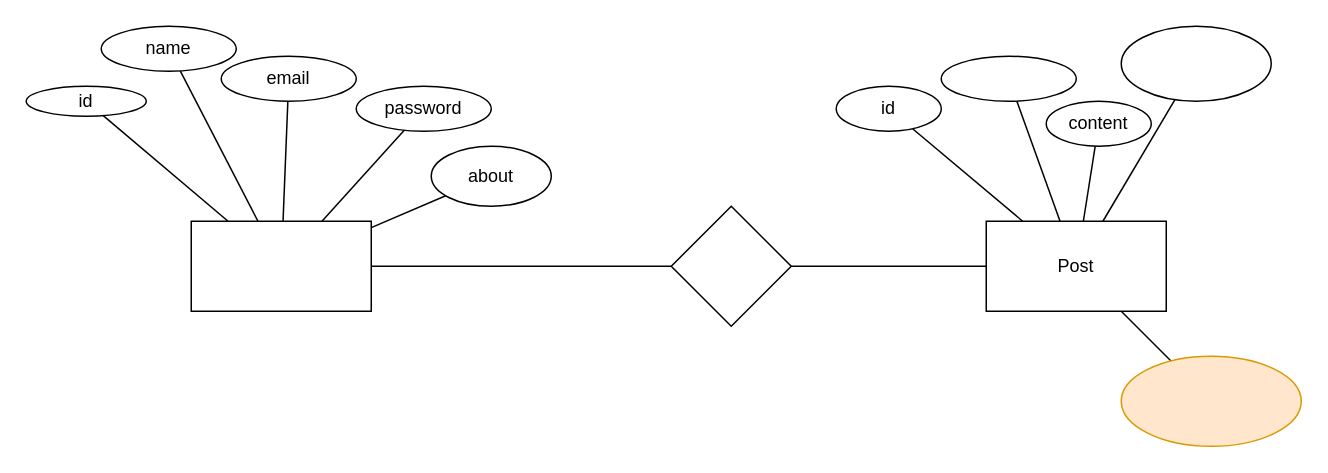
This 1328x473 diagram has some shape labels left out. Here are the shapes that lost their labels. From the top down, the centre of each, then its label:
point 1008,78: title
point 1195,63: image
point 280,265: User
point 1210,400: user_id
